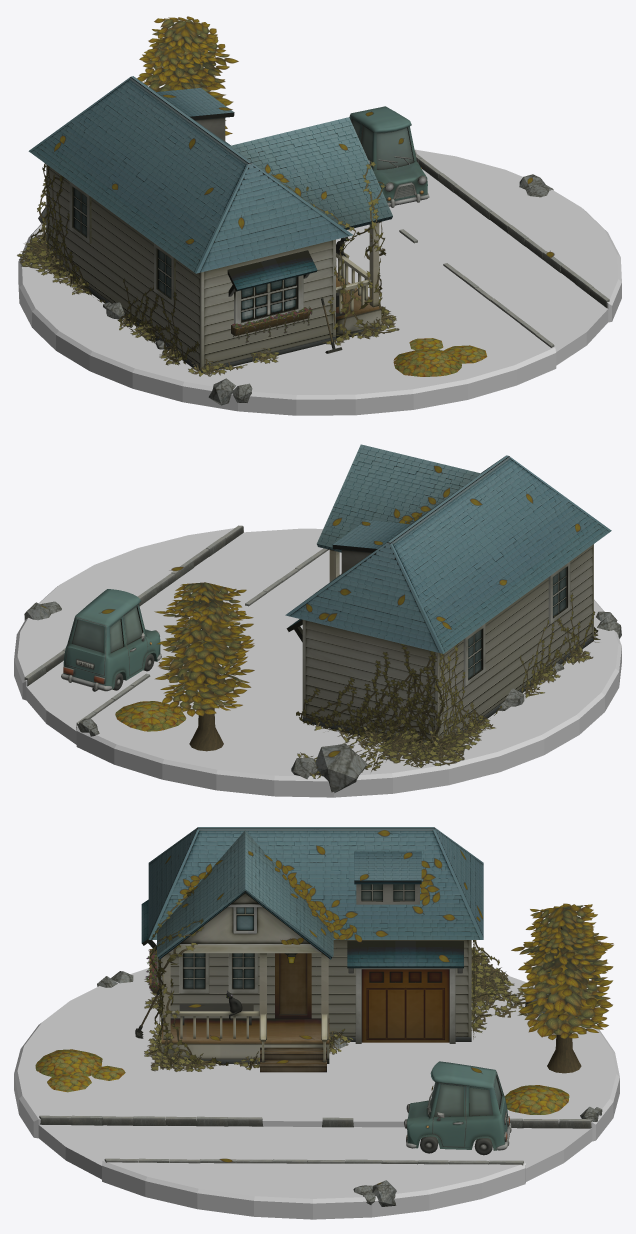
3 views of the same model, one above another, from view 1: azimuth 30°, elevation 25°; view 2: azimuth 150°, elevation 25°; view 3: azimuth 270°, elevation 25° (orthographic).
Parts seen in each view (by area): view 1: polySurface637, House_base, polySurface197, polySurface355, initialShadingGrouppolySurface116_polySurface3, House_window_01, polySurface226, polySurface243, House_smallroof_02, House_veranda, House_windows_06, House_windows_05 (+4 smaller); view 2: polySurface637, House_base, polySurface355, polySurface197, initialShadingGrouppolySurface116_polySurface3, polySurface276, polySurface250, House_smallroof_02, House_windows_05, House_windows_06, polySurface470, polySurface480 (+6 smaller); view 3: polySurface637, House_base, polySurface355, polySurface197, Garage_door, initialShadingGrouppolySurface116_polySurface3, House_veranda, polySurface179, House_roof_part_02, House_door, House_smallroof_02, House_stairs (+13 smaller).
Boxes of the visible parts, left/top/right/bottom form: polySurface637: left=18, top=149, right=621, bottom=415; House_base: left=28, top=76, right=353, bottom=372; polySurface197: left=229, top=117, right=392, bottom=229; polySurface355: left=137, top=16, right=238, bottom=135; initialShadingGrouppolySurface116_polySurface3: left=349, top=106, right=429, bottom=207; House_window_01: left=234, top=275, right=303, bottom=324; polySurface226: left=227, top=250, right=317, bottom=296; polySurface243: left=393, top=349, right=461, bottom=376; House_smallroof_02: left=156, top=88, right=234, bottom=120; House_veranda: left=336, top=273, right=381, bottom=340; House_windows_06: left=69, top=181, right=91, bottom=244; House_windows_05: left=154, top=243, right=175, bottom=305; polySurface637: left=14, top=526, right=621, bottom=797; House_base: left=285, top=455, right=611, bottom=747; polySurface355: left=154, top=582, right=254, bottom=751; polySurface197: left=316, top=444, right=480, bottom=552; initialShadingGrouppolySurface116_polySurface3: left=61, top=589, right=161, bottom=691; polySurface276: left=315, top=744, right=367, bottom=792; polySurface250: left=115, top=701, right=186, bottom=731; House_smallroof_02: left=332, top=520, right=410, bottom=552; House_windows_05: left=548, top=561, right=570, bottom=624; House_windows_06: left=463, top=623, right=485, bottom=686; polySurface470: left=418, top=730, right=465, bottom=765; polySurface480: left=375, top=730, right=424, bottom=763; polySurface637: left=14, top=968, right=619, bottom=1219; House_base: left=148, top=827, right=483, bottom=1041; polySurface355: left=511, top=903, right=613, bottom=1073; polySurface197: left=157, top=830, right=333, bottom=959; Garage_door: left=355, top=968, right=455, bottom=1043; initialShadingGrouppolySurface116_polySurface3: left=404, top=1061, right=511, bottom=1155; House_veranda: left=161, top=1018, right=329, bottom=1063; polySurface179: left=347, top=941, right=463, bottom=973; House_roof_part_02: left=180, top=893, right=309, bottom=943; House_door: left=275, top=953, right=311, bottom=1018; House_smallroof_02: left=354, top=851, right=421, bottom=884; House_stairs: left=260, top=1047, right=326, bottom=1072.
Size of the model in its own units: 50.27 by 18.7 by 50.43.
